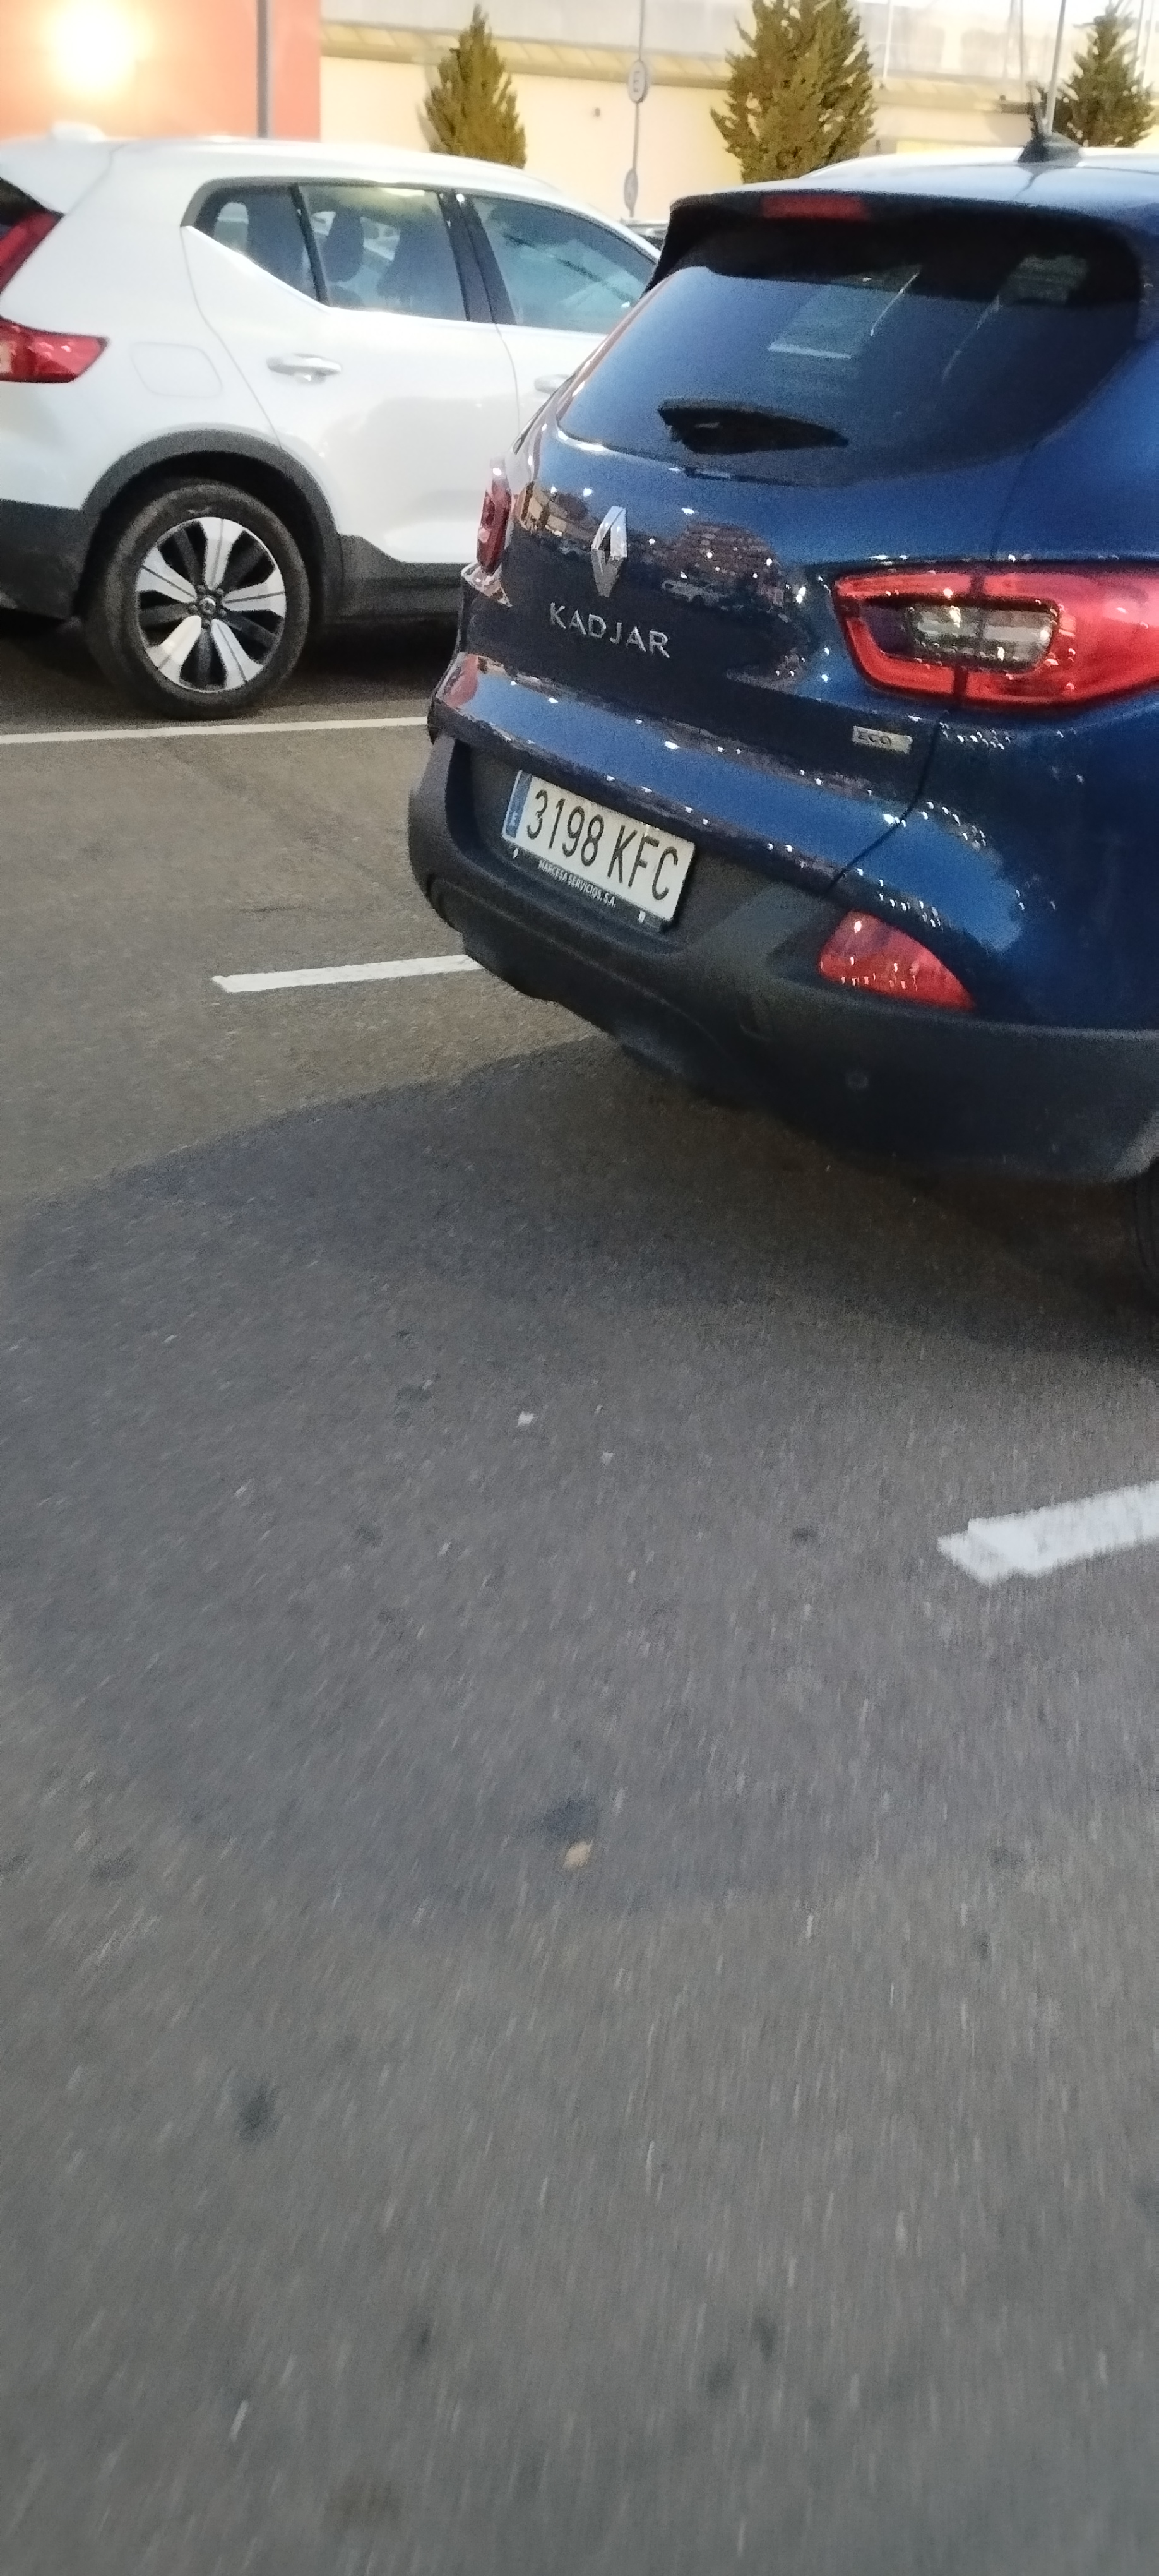Car: (426, 128, 1109, 1306)
Plate: (530, 765, 725, 863)
